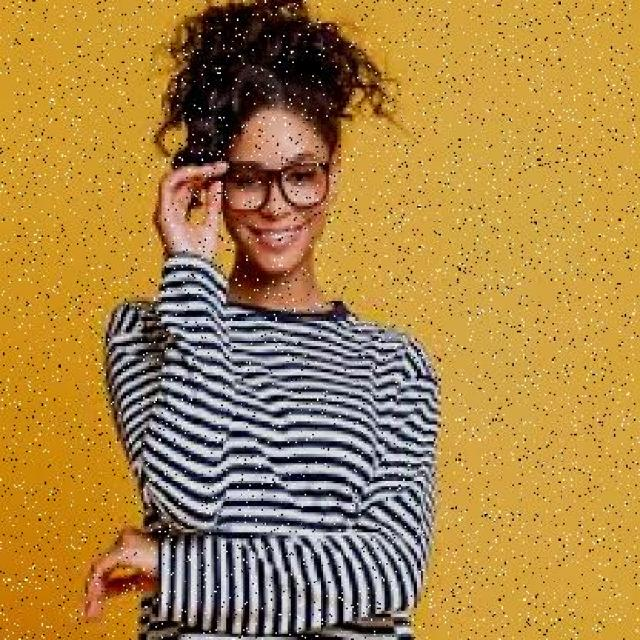glasses: (200, 147, 345, 227)
